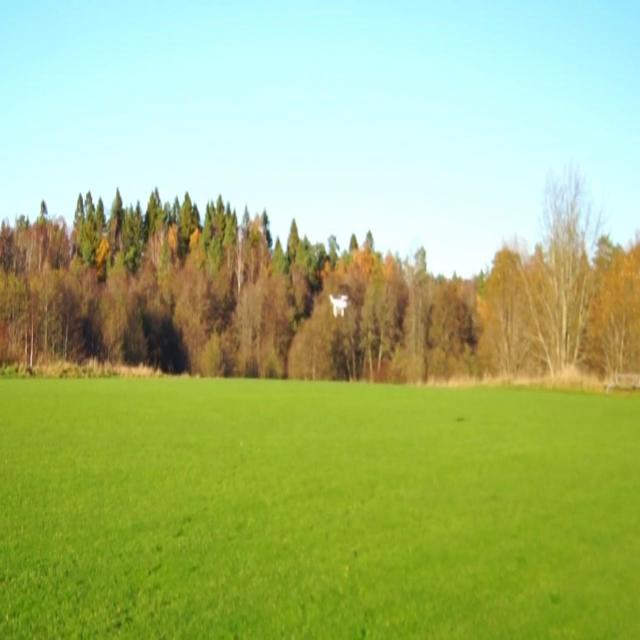UAV: (328, 294, 352, 318)
